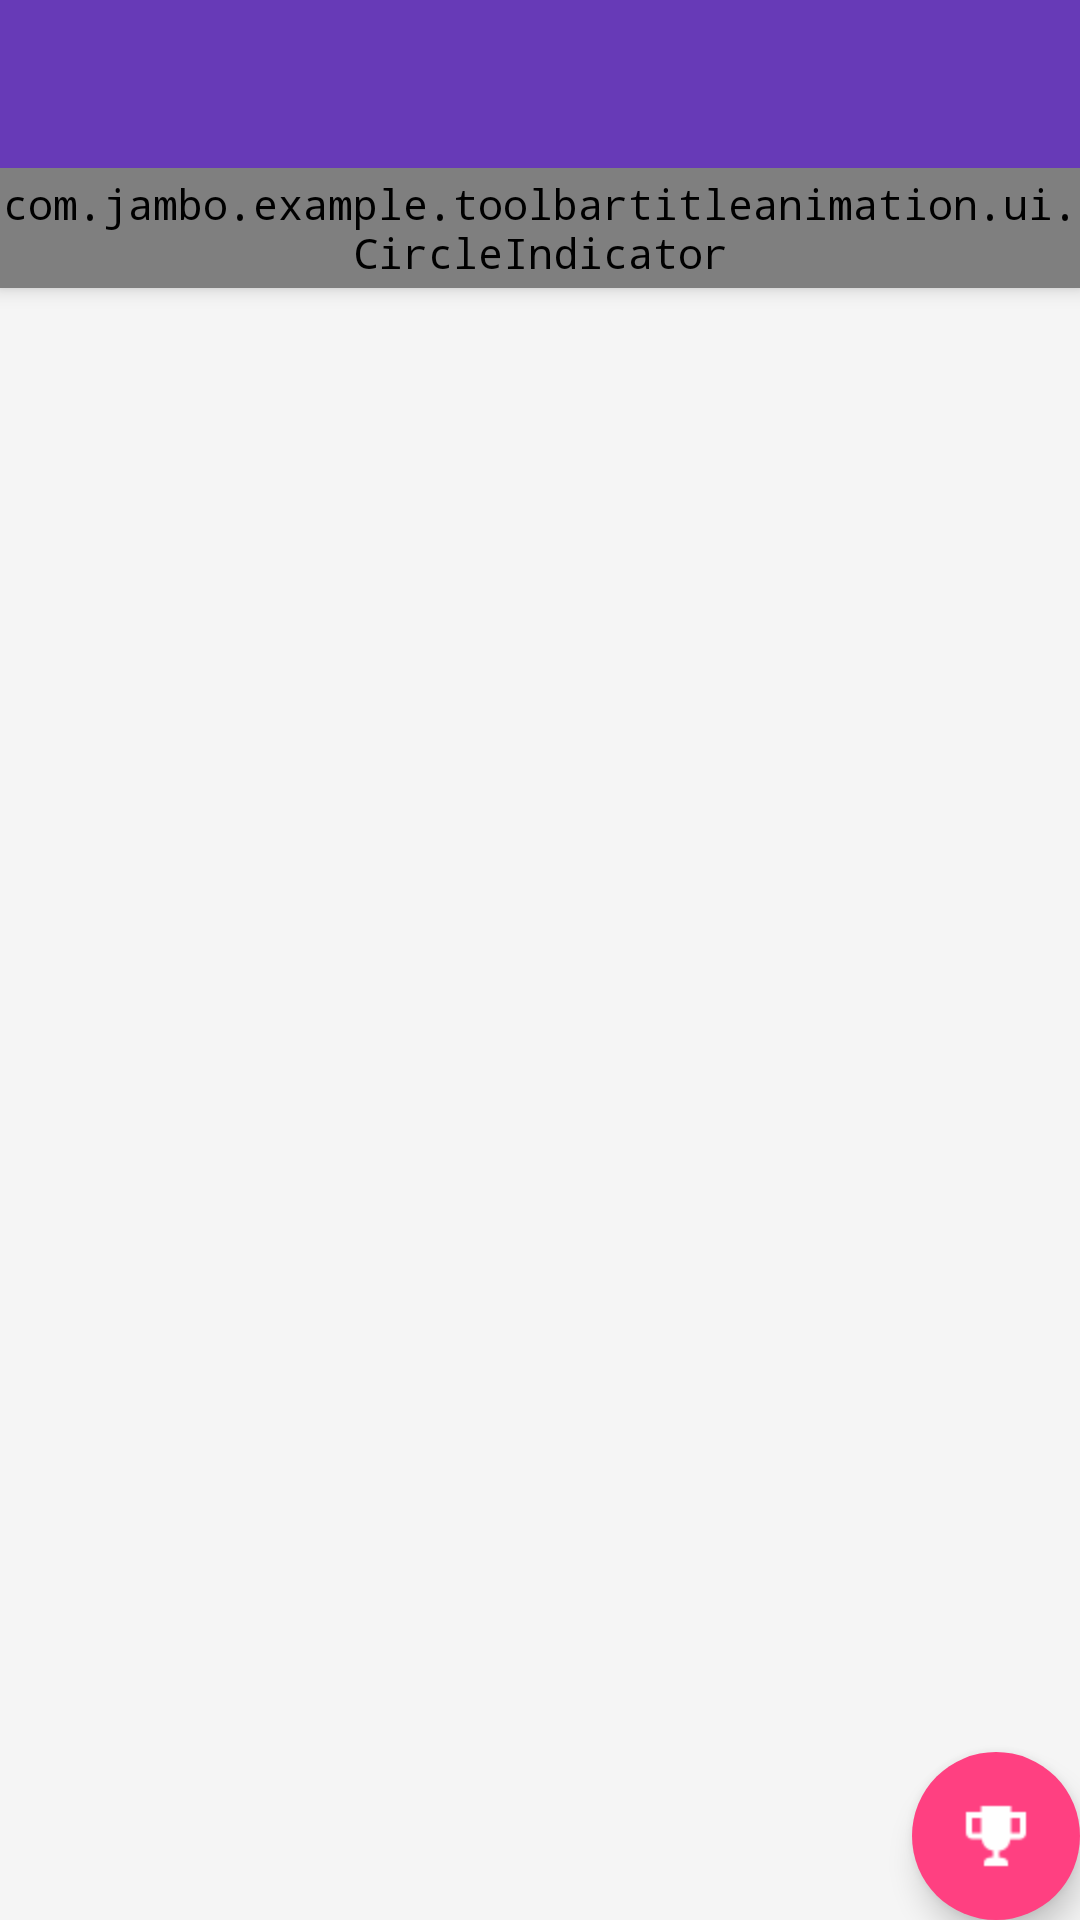

Screen size 1080 x 1920. Icon name, then its center in pixels as (x,y):
trophy: (996,1836)
